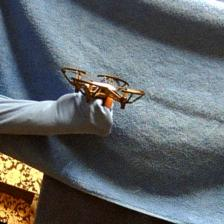drone: (60, 66, 146, 111)
